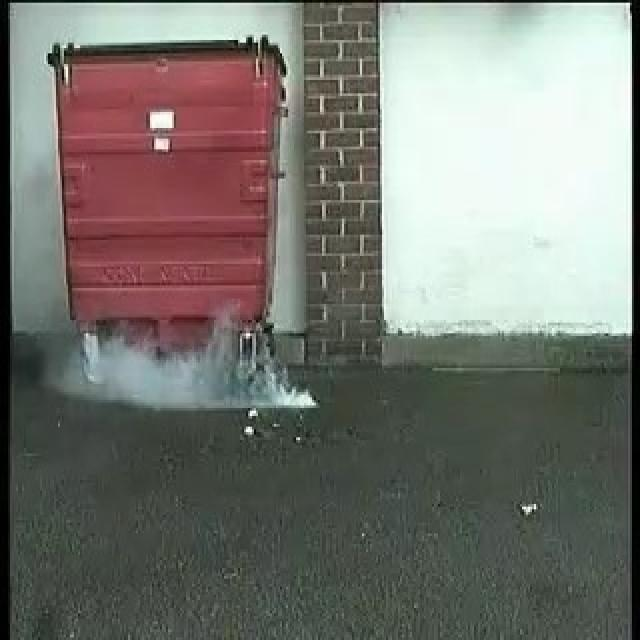Smoke: (80, 332, 320, 408)
